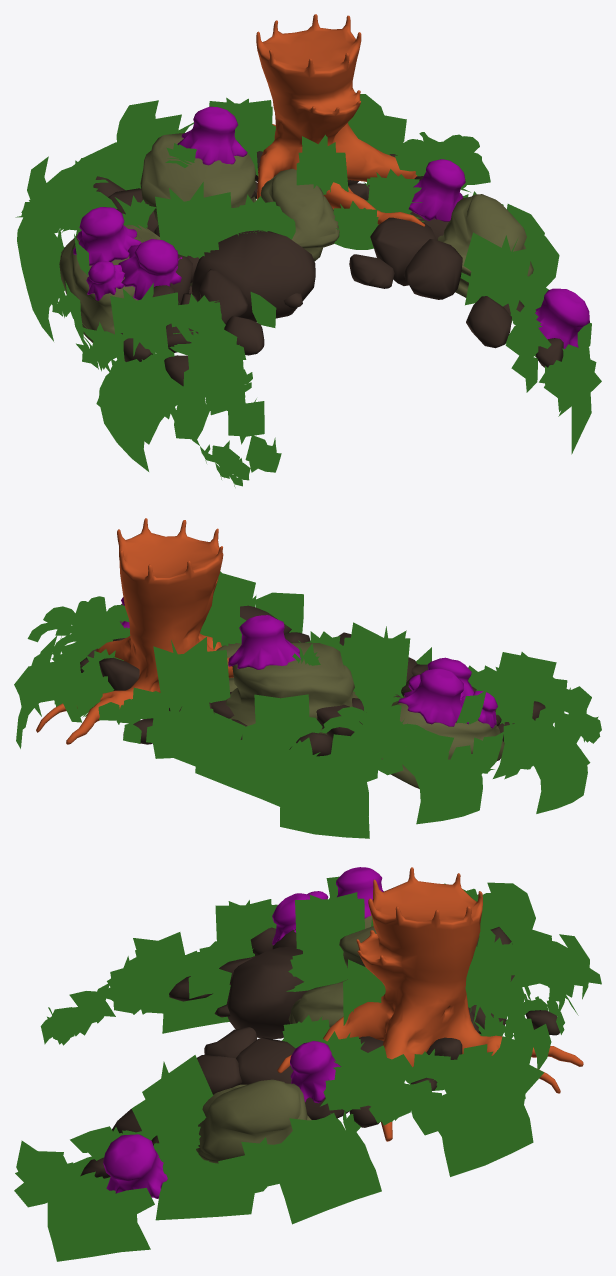
The model's file is sahrimArmor_body.fbx.
3 renders of one model, top to bottom at view 1: azimuth 30°, elevation 25°; view 2: azimuth 150°, elevation 25°; view 3: azimuth 270°, elevation 25°, orthographic. The views are drawn at different scales.
Visible parts, largest first — view 1: armorBody_LOD0; view 2: armorBody_LOD0; view 3: armorBody_LOD0.
Part boxes in pixels (x1,y1,x2,y2): armorBody_LOD0: (15, 14, 601, 487); armorBody_LOD0: (14, 518, 601, 838); armorBody_LOD0: (14, 867, 601, 1261).
Size of what is drawn, in the model's own units: 0.5016 by 0.54 by 0.3355.
